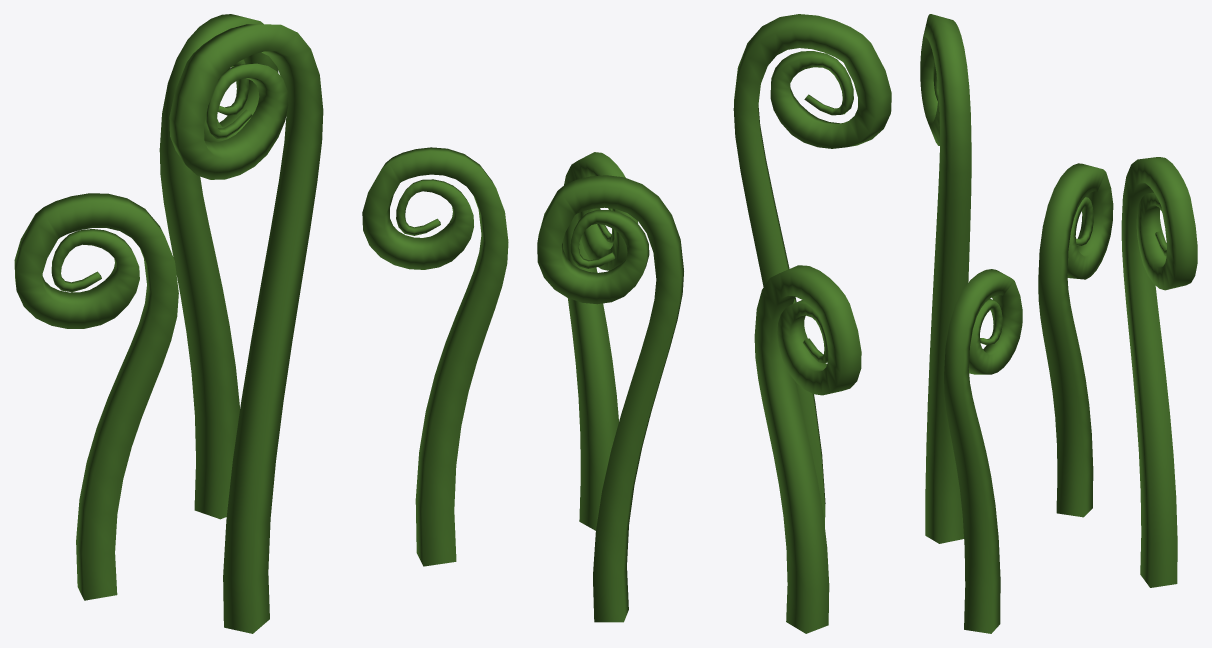
File: Plant 3.glb
3 renders of one model, left to right at view 1: azimuth 30°, elevation 25°; view 2: azimuth 150°, elevation 25°; view 3: azimuth 270°, elevation 25°, orthographic. The views are drawn at different scales.
Parts seen in each view (by area): view 1: Plant_3; view 2: Plant_3; view 3: Plant_3.
Part boxes in pixels (x1,y1,x2,y2): Plant_3: (14, 14, 508, 633); Plant_3: (537, 14, 891, 633); Plant_3: (920, 14, 1197, 633).
Size of the model in its own units: 2.12 by 2.98 by 1.44.
1 material, 1 textured.
